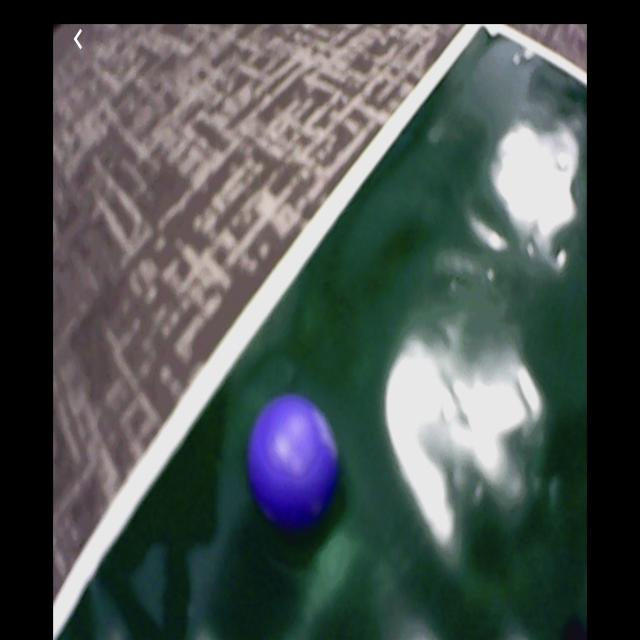ball: (248, 396, 339, 523)
